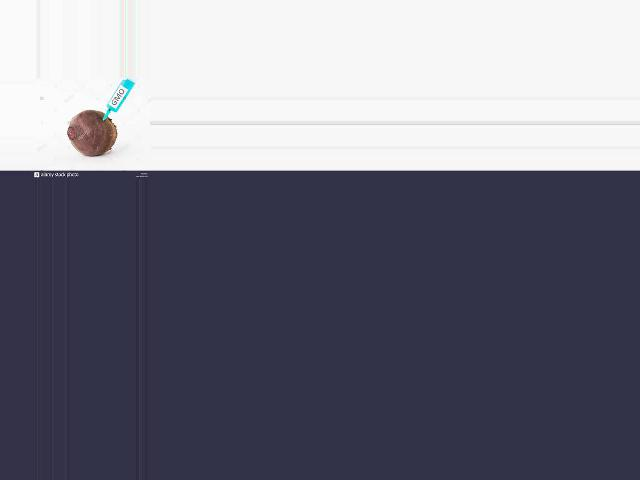beet: (67, 110, 117, 157)
